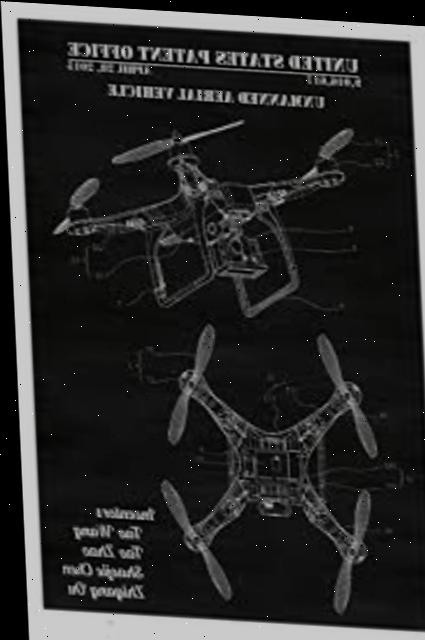drone: (39, 86, 383, 345), (147, 313, 383, 618)
